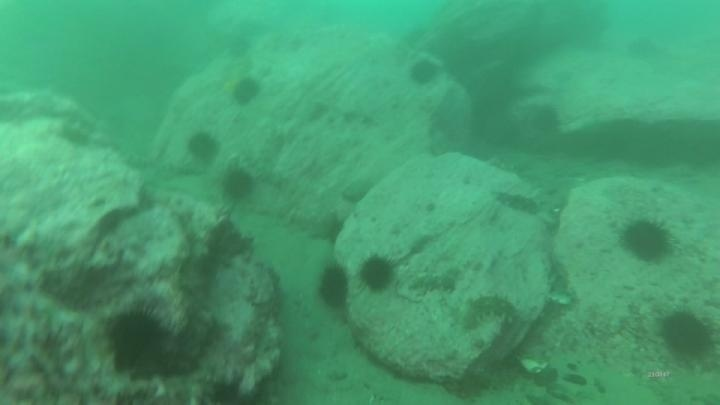echinus: (102, 303, 171, 374), (657, 307, 716, 362), (619, 216, 674, 264), (315, 262, 351, 312), (357, 253, 397, 295), (220, 165, 257, 203), (184, 129, 221, 165), (528, 103, 562, 137), (229, 75, 263, 108), (407, 57, 441, 88)
holothurian: (458, 292, 523, 332), (403, 268, 461, 296), (493, 191, 541, 214)
